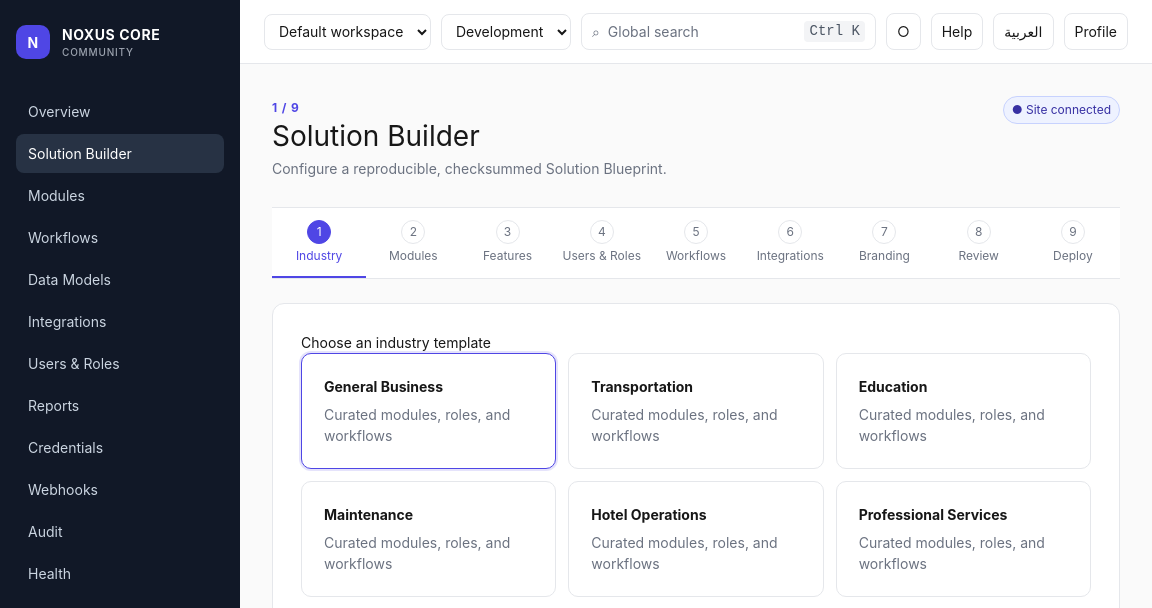
Solution Builder › renders all nine real steps and the bundled catalog fallback
Expected: the heading "Solution Builder" is shown, [272,119,480,153]
What coordinates should you click on to do the following:
click the button with aria-label "2. Modules"
I would click on:
 (413, 243)
Its box is [366,208,460,278].
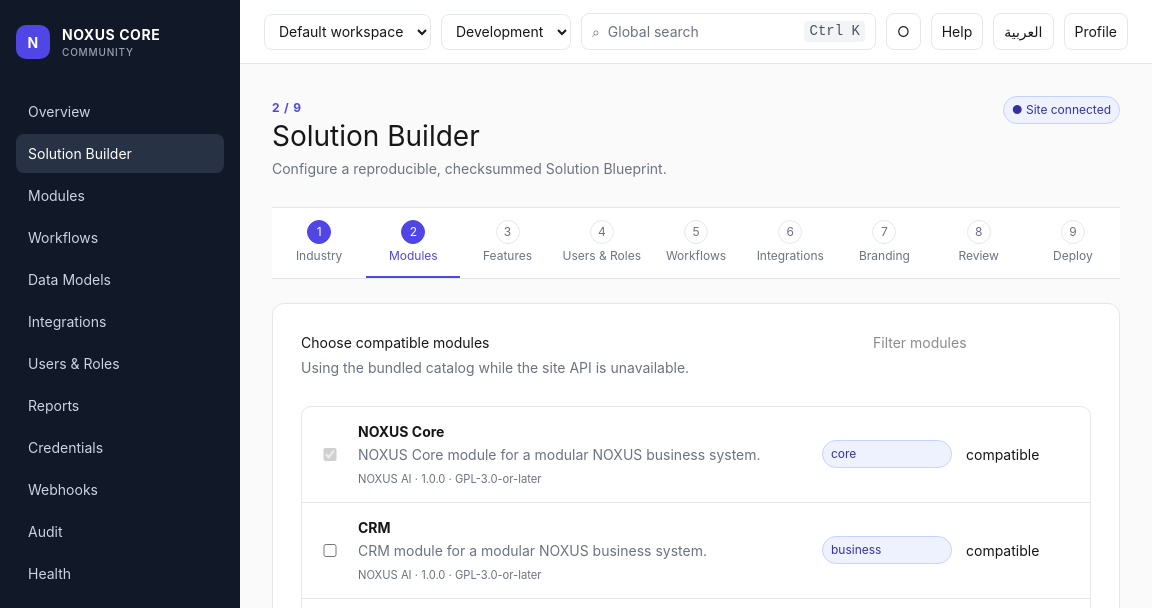
Expected: the text "NOXUS Core" is shown, [358,423,444,440]
Expected: the text "Using the bundled catalog while the site API is unavailable." is shown, [301,357,689,378]
